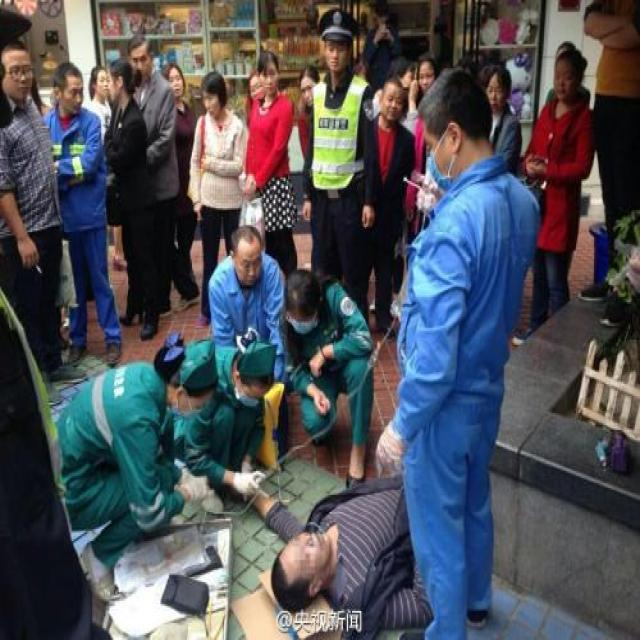10-: (0, 0, 638, 638)
down: (233, 458, 438, 636)
